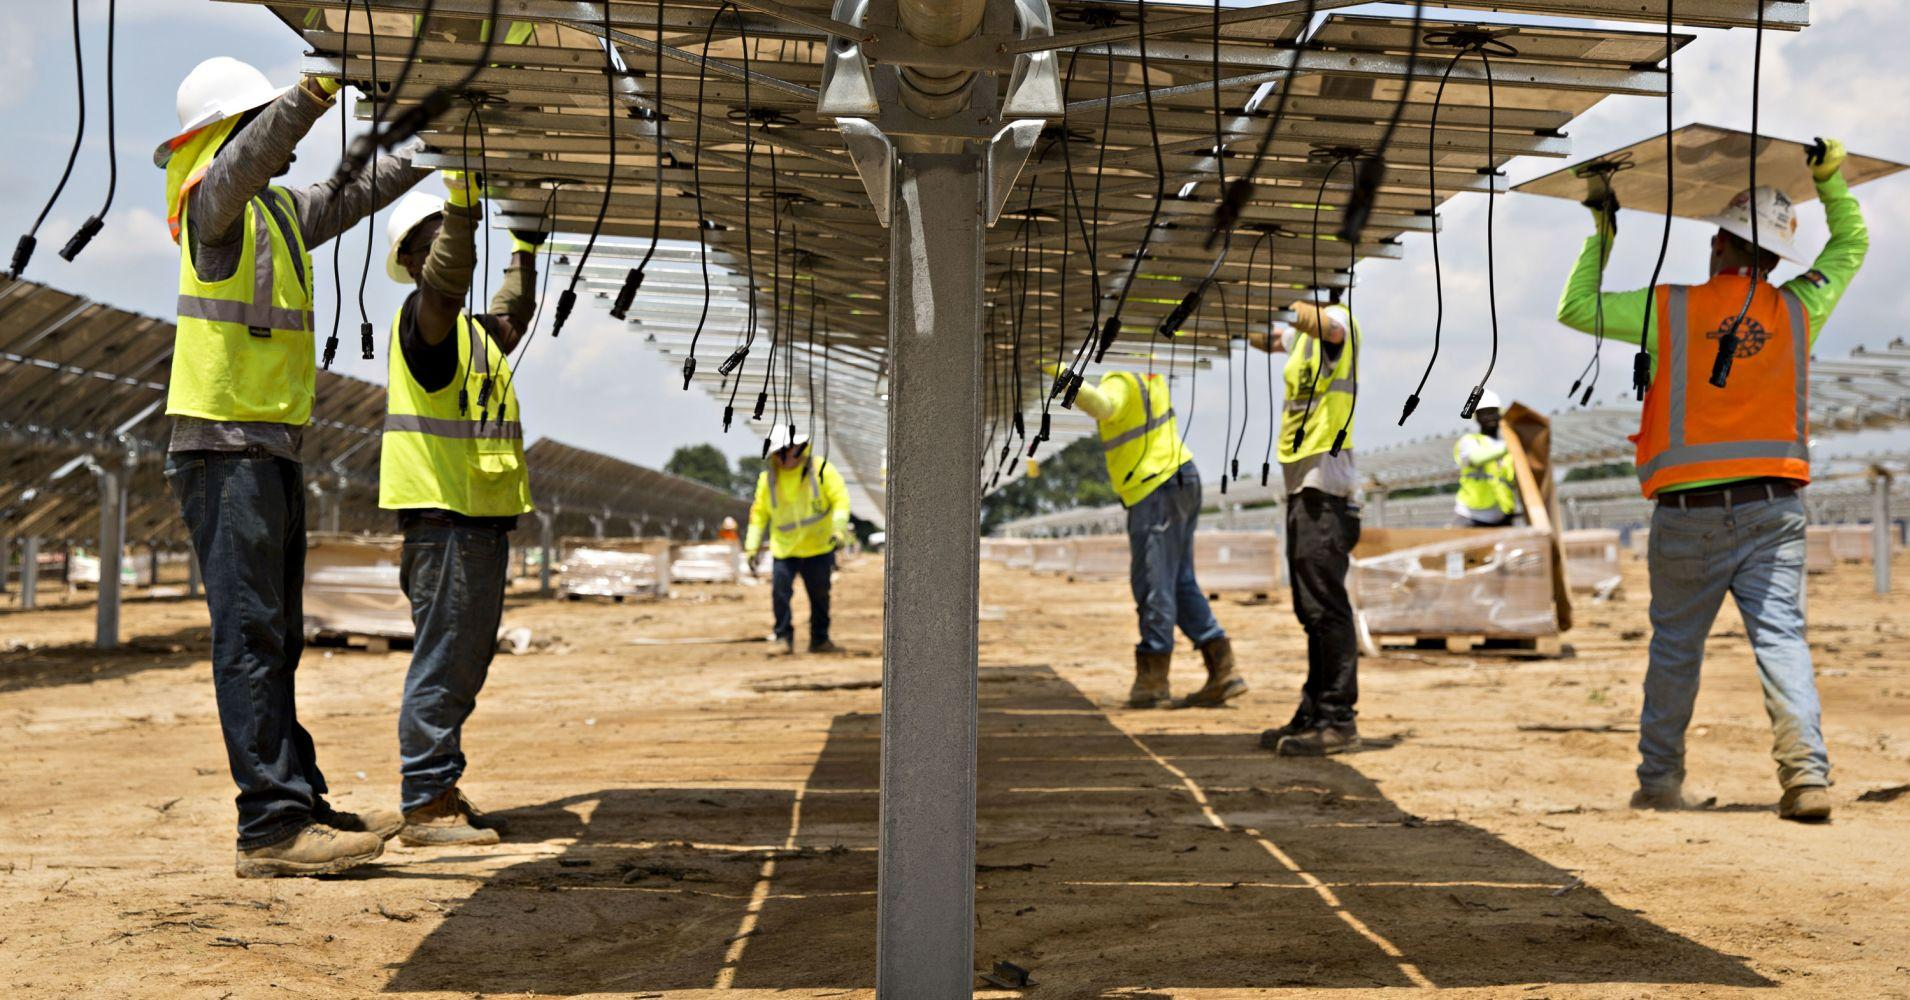helmet: (164, 51, 275, 131), (1724, 184, 1811, 258), (384, 194, 442, 282), (764, 420, 795, 451), (1477, 388, 1505, 414)
